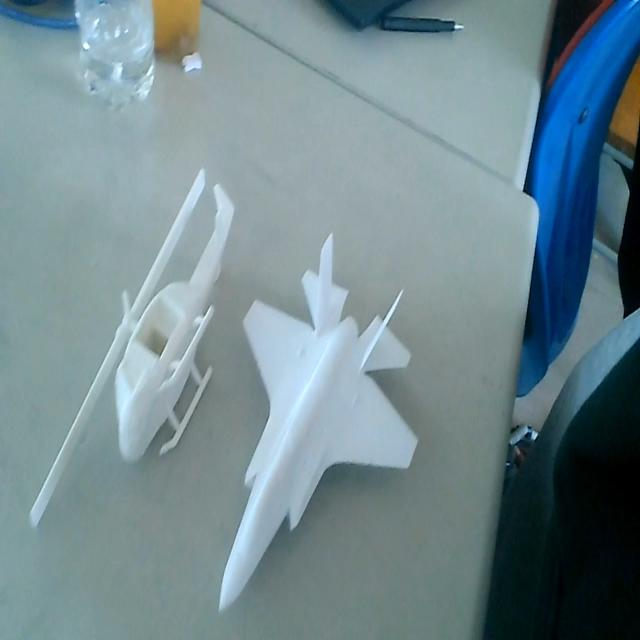Helicopter: (31, 169, 237, 515)
Jet: (217, 228, 423, 613)
